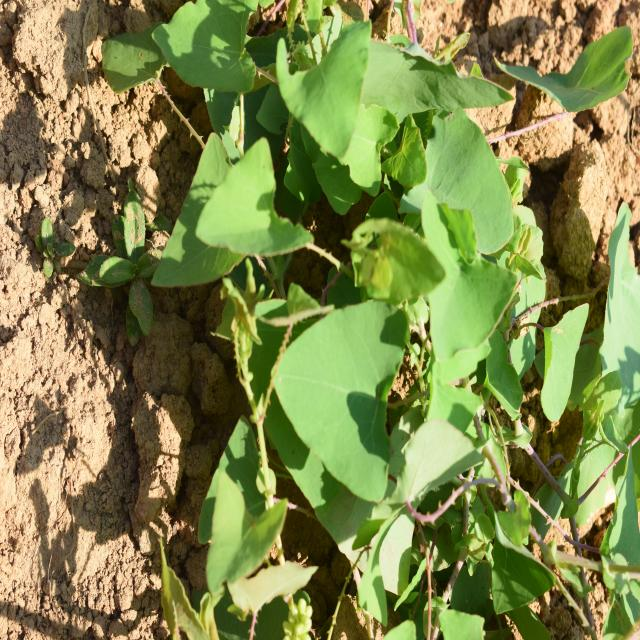Asiatic_Smartweed: (282, 266, 504, 556), (268, 0, 443, 228), (169, 116, 325, 308), (385, 98, 526, 275)
